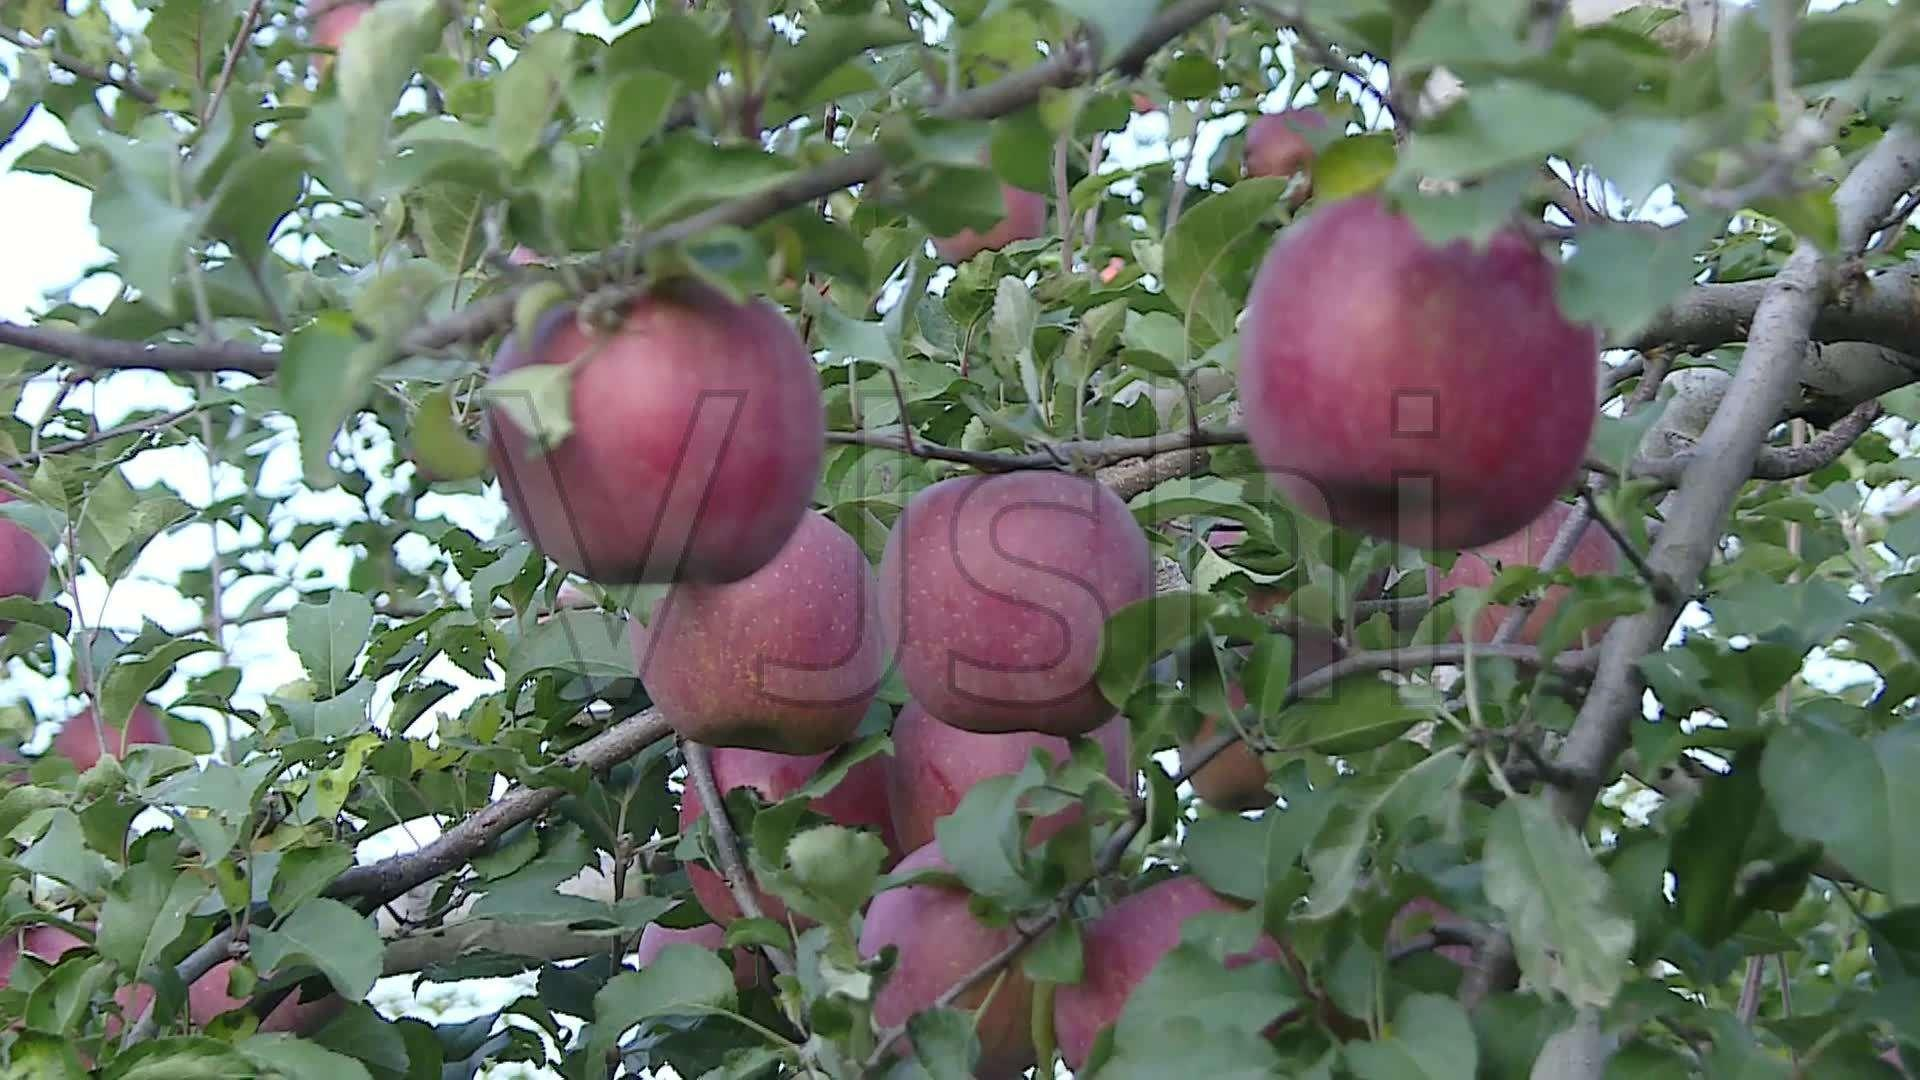apple: (1232, 185, 1596, 553), (471, 281, 822, 596), (880, 468, 1156, 727), (640, 506, 880, 754), (860, 835, 1076, 1075), (1054, 874, 1305, 1080), (880, 699, 1133, 858), (678, 746, 882, 934), (1419, 497, 1621, 647), (1, 473, 47, 636), (1185, 738, 1275, 814), (55, 709, 153, 762), (1244, 113, 1321, 178)
